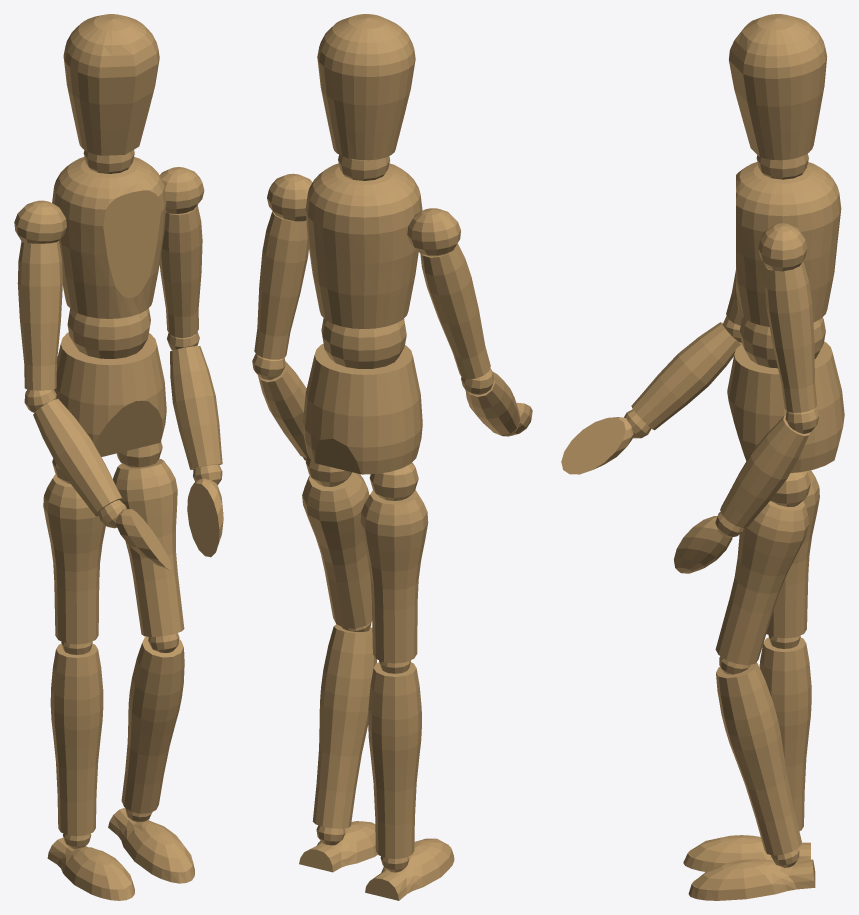
The model's file is mannequin.obj.
3 renders of one model, left to right at view 1: azimuth 30°, elevation 25°; view 2: azimuth 150°, elevation 25°; view 3: azimuth 270°, elevation 25°, orthographic. The views are drawn at different scales.
Visible parts, largest first — view 1: sweethome3d_mannequin_chest, sweethome3d_mannequin_head, sweethome3d_mannequin_pelvis, sweethome3d_mannequin_right_leg, sweethome3d_mannequin_left_leg, sweethome3d_mannequin_right_thigh, sweethome3d_mannequin_left_thigh, sweethome3d_mannequin_right_arm, sweethome3d_mannequin_left_forearm, sweethome3d_mannequin_left_arm, sweethome3d_mannequin_right_forearm, sweethome3d_mannequin_left_foot (+12 smaller); view 2: sweethome3d_mannequin_chest, sweethome3d_mannequin_pelvis, sweethome3d_mannequin_head, sweethome3d_mannequin_left_leg, sweethome3d_mannequin_right_leg, sweethome3d_mannequin_right_thigh, sweethome3d_mannequin_left_thigh, sweethome3d_mannequin_left_arm, sweethome3d_mannequin_right_arm, sweethome3d_mannequin_abdomen, sweethome3d_mannequin_right_foot, sweethome3d_mannequin_left_forearm (+8 smaller); view 3: sweethome3d_mannequin_head, sweethome3d_mannequin_chest, sweethome3d_mannequin_left_leg, sweethome3d_mannequin_left_thigh, sweethome3d_mannequin_pelvis, sweethome3d_mannequin_left_arm, sweethome3d_mannequin_right_leg, sweethome3d_mannequin_right_forearm, sweethome3d_mannequin_left_forearm, sweethome3d_mannequin_left_foot, sweethome3d_mannequin_right_thigh, sweethome3d_mannequin_right_hand (+7 smaller).
Boxes of the visible parts, <box> form: sweethome3d_mannequin_chest: <box>52,157,166,318</box>; sweethome3d_mannequin_head: <box>63,14,159,155</box>; sweethome3d_mannequin_pelvis: <box>54,332,166,456</box>; sweethome3d_mannequin_right_leg: <box>50,643,103,836</box>; sweethome3d_mannequin_left_leg: <box>121,636,184,813</box>; sweethome3d_mannequin_right_thigh: <box>43,474,105,644</box>; sweethome3d_mannequin_left_thigh: <box>113,458,184,636</box>; sweethome3d_mannequin_right_arm: <box>17,241,62,390</box>; sweethome3d_mannequin_left_forearm: <box>170,346,222,469</box>; sweethome3d_mannequin_left_arm: <box>159,205,202,338</box>; sweethome3d_mannequin_right_forearm: <box>33,399,122,516</box>; sweethome3d_mannequin_left_foot: <box>108,807,194,883</box>; sweethome3d_mannequin_chest: <box>305,163,422,328</box>; sweethome3d_mannequin_pelvis: <box>303,343,422,474</box>; sweethome3d_mannequin_head: <box>317,14,415,160</box>; sweethome3d_mannequin_left_leg: <box>312,624,376,828</box>; sweethome3d_mannequin_right_leg: <box>368,662,421,858</box>; sweethome3d_mannequin_right_thigh: <box>360,490,428,663</box>; sweethome3d_mannequin_left_thigh: <box>302,472,372,628</box>; sweethome3d_mannequin_left_arm: <box>254,211,308,359</box>; sweethome3d_mannequin_right_arm: <box>420,243,490,379</box>; sweethome3d_mannequin_abdomen: <box>321,318,406,368</box>; sweethome3d_mannequin_right_foot: <box>365,838,454,900</box>; sweethome3d_mannequin_left_forearm: <box>258,361,307,457</box>; sweethome3d_mannequin_head: <box>729,14,827,160</box>; sweethome3d_mannequin_chest: <box>736,162,841,326</box>; sweethome3d_mannequin_left_leg: <box>716,662,801,855</box>; sweethome3d_mannequin_left_thigh: <box>715,501,808,665</box>; sweethome3d_mannequin_pelvis: <box>727,341,844,472</box>; sweethome3d_mannequin_left_arm: <box>764,262,817,412</box>; sweethome3d_mannequin_right_leg: <box>759,637,811,831</box>; sweethome3d_mannequin_right_forearm: <box>631,322,741,430</box>; sweethome3d_mannequin_left_forearm: <box>720,415,809,527</box>; sweethome3d_mannequin_left_foot: <box>688,859,815,900</box>; sweethome3d_mannequin_right_thigh: <box>766,470,819,638</box>; sweethome3d_mannequin_right_hand: <box>561,417,633,474</box>.
Bounding box in the file's own units: 0.0774 × 0.308 × 0.092.
